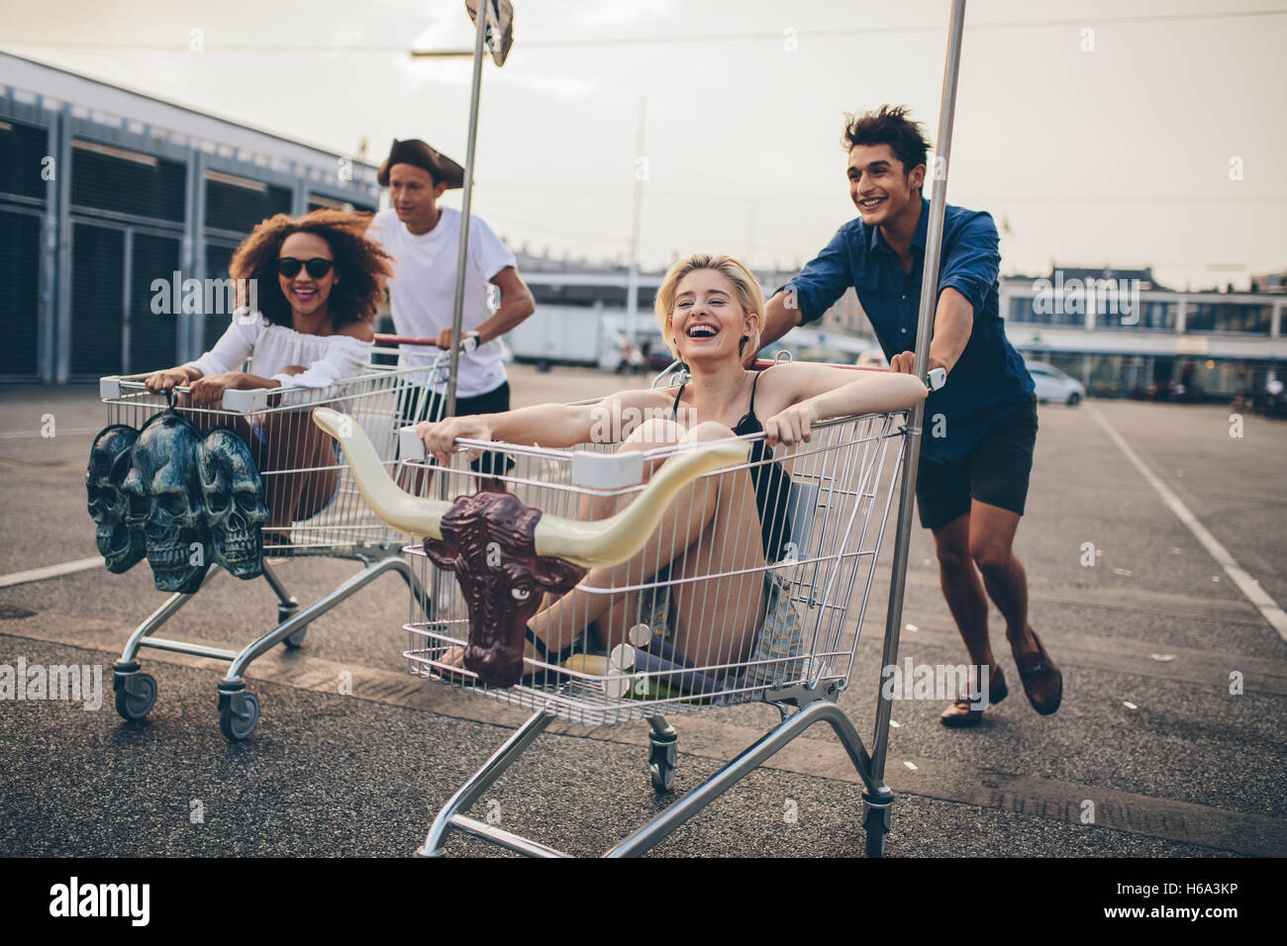Person: (782, 125, 1090, 721), (337, 142, 528, 418)
shopping_cart: (386, 395, 896, 856), (116, 354, 462, 745)
